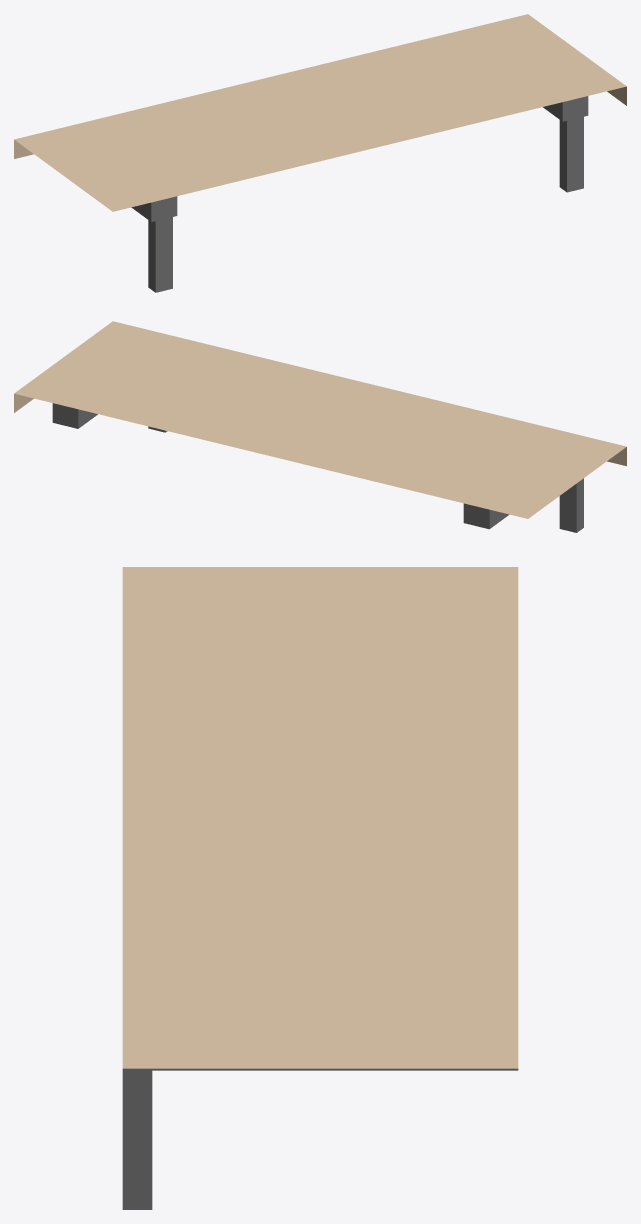
File: shelf.glb
The picture shows the model from 3 angles, top to bottom: view 1: azimuth 30°, elevation 25°; view 2: azimuth 150°, elevation 25°; view 3: azimuth 270°, elevation 25°; orthographic projection. The views are drawn at different scales.
Visible parts, largest first — view 1: shelf_board, shelf_brackets; view 2: shelf_board, shelf_brackets; view 3: shelf_board, shelf_brackets.
Part boxes in pixels (bbox=[...]): shelf_board: bbox=[14, 14, 626, 211]; shelf_brackets: bbox=[131, 96, 588, 292]; shelf_board: bbox=[14, 321, 626, 518]; shelf_brackets: bbox=[52, 403, 583, 532]; shelf_board: bbox=[122, 567, 518, 1068]; shelf_brackets: bbox=[122, 1068, 518, 1209].
Size of the model in its own units: 0.6 by 0.102 by 0.2.
